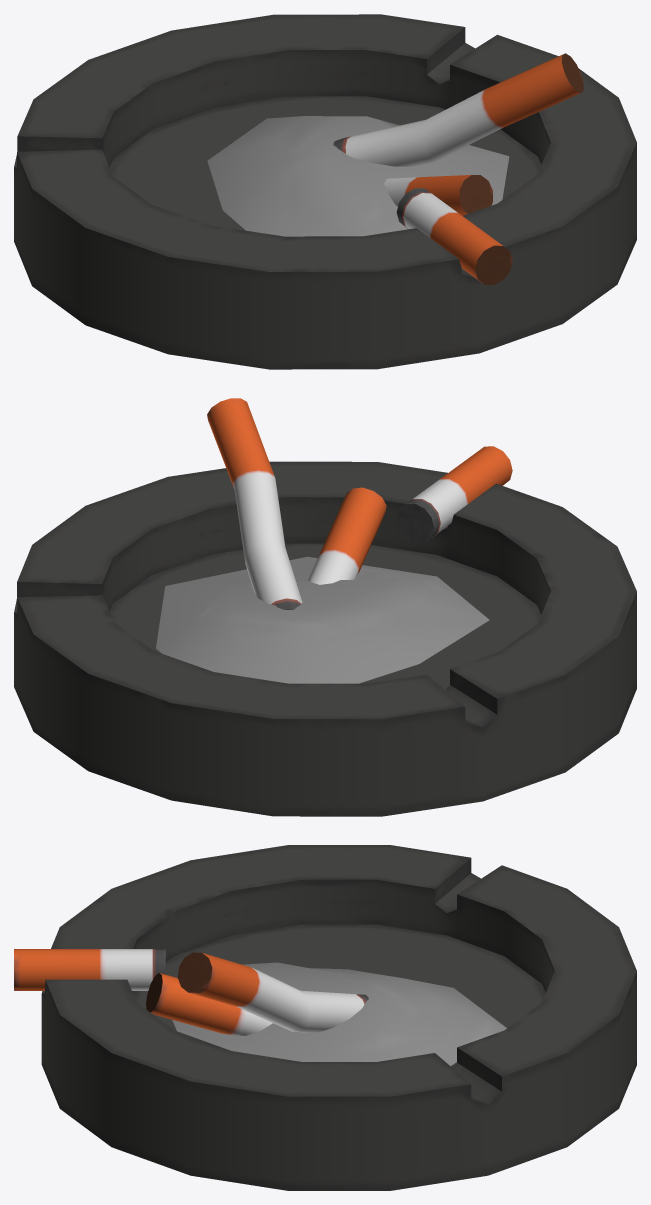
The model's file is Ashtray_4.fbx.
3 renders of one model, top to bottom at view 1: azimuth 30°, elevation 25°; view 2: azimuth 150°, elevation 25°; view 3: azimuth 270°, elevation 25°, orthographic. The views are drawn at different scales.
Visible parts, largest first — view 1: Ashtray_4; view 2: Ashtray_4; view 3: Ashtray_4.
Part boxes in pixels (x1,y1,x2,y2): Ashtray_4: [14, 14, 636, 369]; Ashtray_4: [14, 398, 636, 816]; Ashtray_4: [14, 845, 636, 1190].
Bounding box in the file's own units: 0.1143 × 0.0404 × 0.1196.
